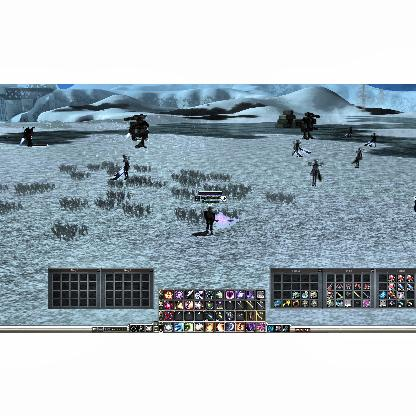caliana: (110, 154, 130, 180), (306, 158, 324, 186), (292, 139, 310, 156), (352, 147, 364, 167), (364, 132, 380, 146), (342, 126, 354, 138)
